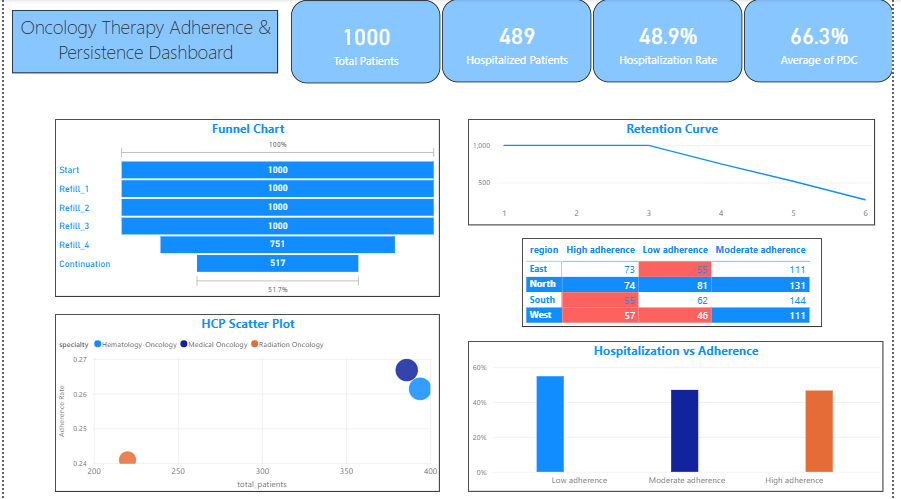

The dashboard page shown, as its layout file describes it:
{"tool":"powerbi","page":{"name":"Page 1","canvas":[1280,720],"ordinal":0},"visuals":[{"type":"textbox","box":[11.5,15.8,383,90.7],"z":1000},{"type":"card","fields":{"Values":["CountNonNull(patients.patient_id)"]},"box":[413.3,1.4,214.6,119.5],"z":2000},{"type":"card","fields":{"Values":["outcomes.Hospitalized Patients"]},"box":[630.7,0,214.6,119.5],"z":3000},{"type":"card","fields":{"Values":["outcomes.Hospitalization Rate"]},"box":[848.2,0,214.6,119.5],"z":4000},{"type":"card","fields":{"Values":["Avg(vw_Patient_Adherence.PDC)"]},"box":[1065.6,0,214.6,119.5],"z":5000},{"type":"funnel","title":"Funnel Chart","fields":{"Y":["prescriptions.Patients_Start","Refill_Cleaned.Refill_1","Refill_Cleaned.Refill_2","Refill_Cleaned.Refill_3","Refill_Cleaned.Refill_4","Refill_Cleaned.Continuation"]},"box":[73.4,172.8,554.4,256.3],"z":6000},{"type":"lineChart","title":"Retention Curve","fields":{"Category":["Refill_Cleaned.refill_event_id"],"Y":["Count(Refill_Cleaned.patient_id)"]},"box":[668.2,172.8,586.1,152.6],"z":7000},{"type":"scatterChart","title":"HCP Scatter Plot","fields":{"Size":["prescriptions.Patients_Start"],"Series":["hcp.specialty"],"X":["vw_Patient_Adherence.total_patients"],"Y":["vw_Patient_Adherence.Adherence Rate"]},"box":[73.4,453.6,554.4,256.3],"z":8000},{"type":"pivotTable","title":"Funnel Chart","fields":{"Rows":["hcp.region"],"Values":["CountNonNull(vw_Patient_Adherence.patient_id)"],"Columns":["vw_Patient_Adherence.Adherence_Group"]},"box":[745.9,344.2,432,128.2],"z":8002},{"type":"clusteredColumnChart","title":"Hospitalization vs Adherence","fields":{"Category":["vw_Patient_Adherence.Adherence_Group"],"Y":["outcomes.Hospitalization Rate"],"Series":["vw_Patient_Adherence.Adherence_Group"]},"box":[668.2,492.5,597.6,217.4],"z":8003}]}

Visuals, with their boxes in screenshot pixels (x1, y1, x2, y2), scaled from the page's 1280x720 canvas onto the 901x499 screenshot:
textbox: [x1=8, y1=11, x2=278, y2=74]
card - CountNonNull(patients.patient_id): [x1=291, y1=1, x2=442, y2=84]
card - outcomes.Hospitalized Patients: [x1=444, y1=0, x2=595, y2=83]
card - outcomes.Hospitalization Rate: [x1=597, y1=0, x2=748, y2=83]
card - Avg(vw_Patient_Adherence.PDC): [x1=750, y1=0, x2=900, y2=83]
"Funnel Chart" funnel: [x1=52, y1=120, x2=442, y2=297]
"Retention Curve" lineChart: [x1=470, y1=120, x2=883, y2=226]
"HCP Scatter Plot" scatterChart: [x1=52, y1=314, x2=442, y2=492]
"Funnel Chart" pivotTable: [x1=525, y1=239, x2=829, y2=327]
"Hospitalization vs Adherence" clusteredColumnChart: [x1=470, y1=341, x2=891, y2=492]
